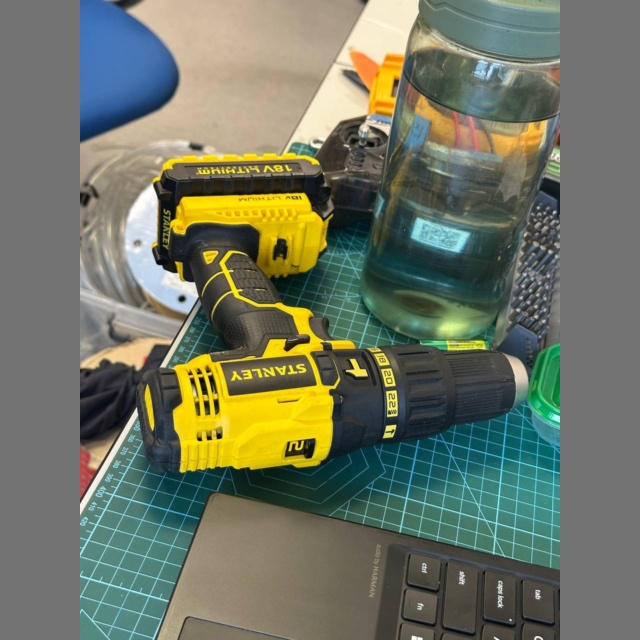drill: (138, 155, 528, 472)
